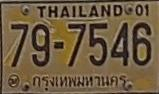4: (110, 22, 128, 64)
5: (88, 22, 107, 65)
6: (132, 22, 150, 65)
7: (10, 23, 28, 66), (68, 23, 86, 66)
9: (31, 23, 49, 66)
BKK: (29, 73, 128, 91)
